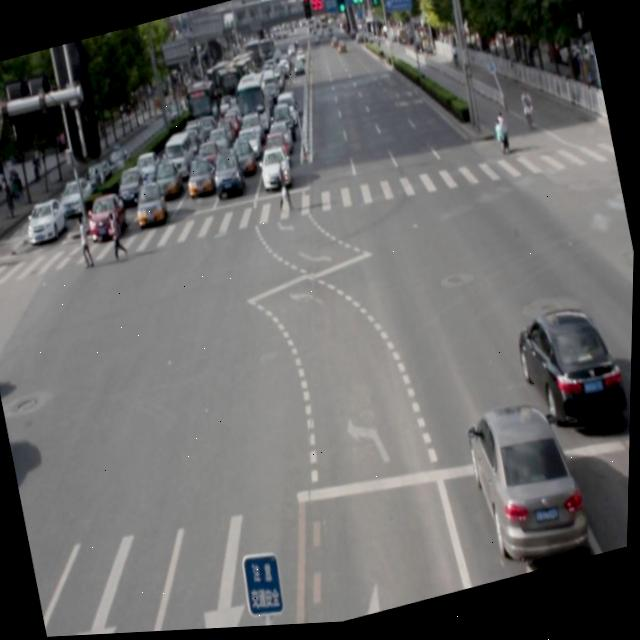car: (462, 395, 594, 578), (513, 302, 629, 439)
